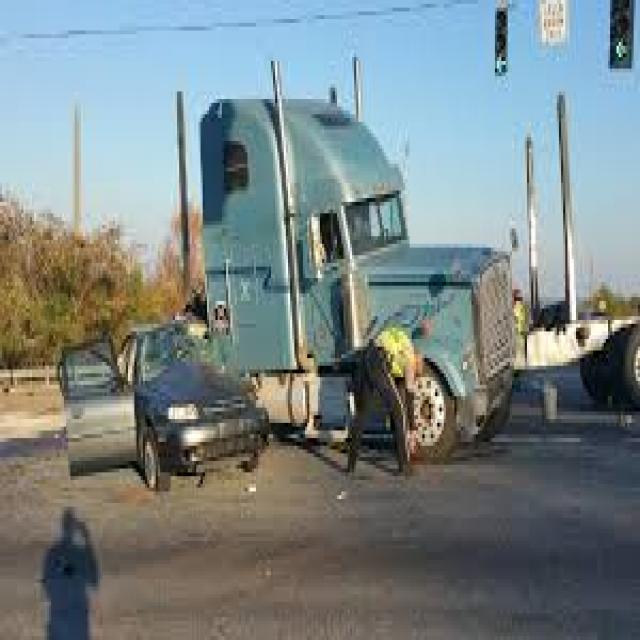accident: (42, 155, 298, 525)
